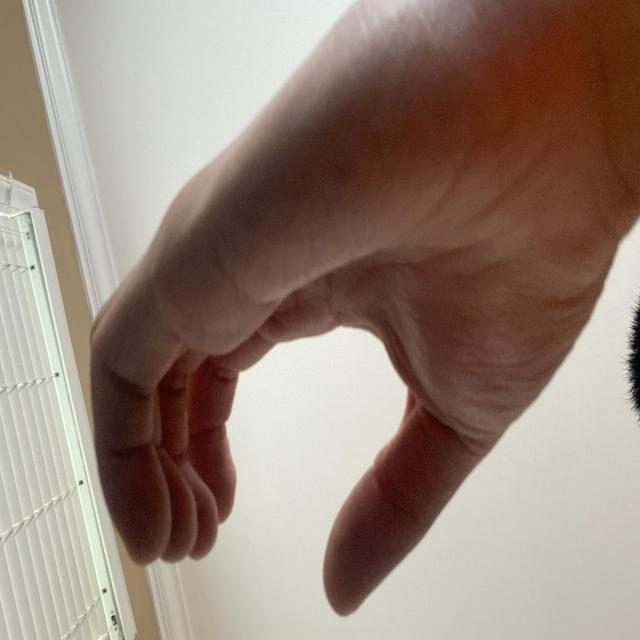C: (12, 113, 480, 640)
